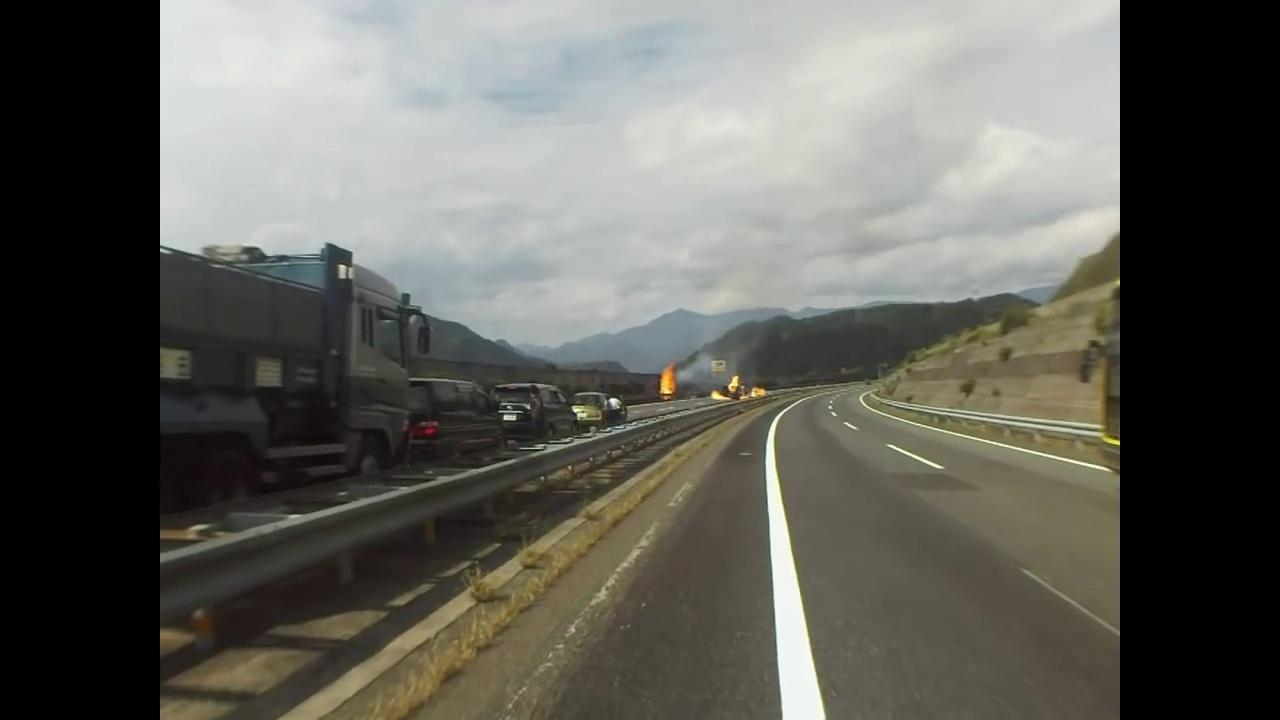fire: (708, 372, 754, 402), (656, 356, 682, 400)
